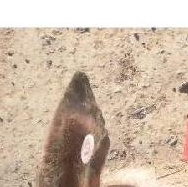text: (67, 128, 108, 169)
